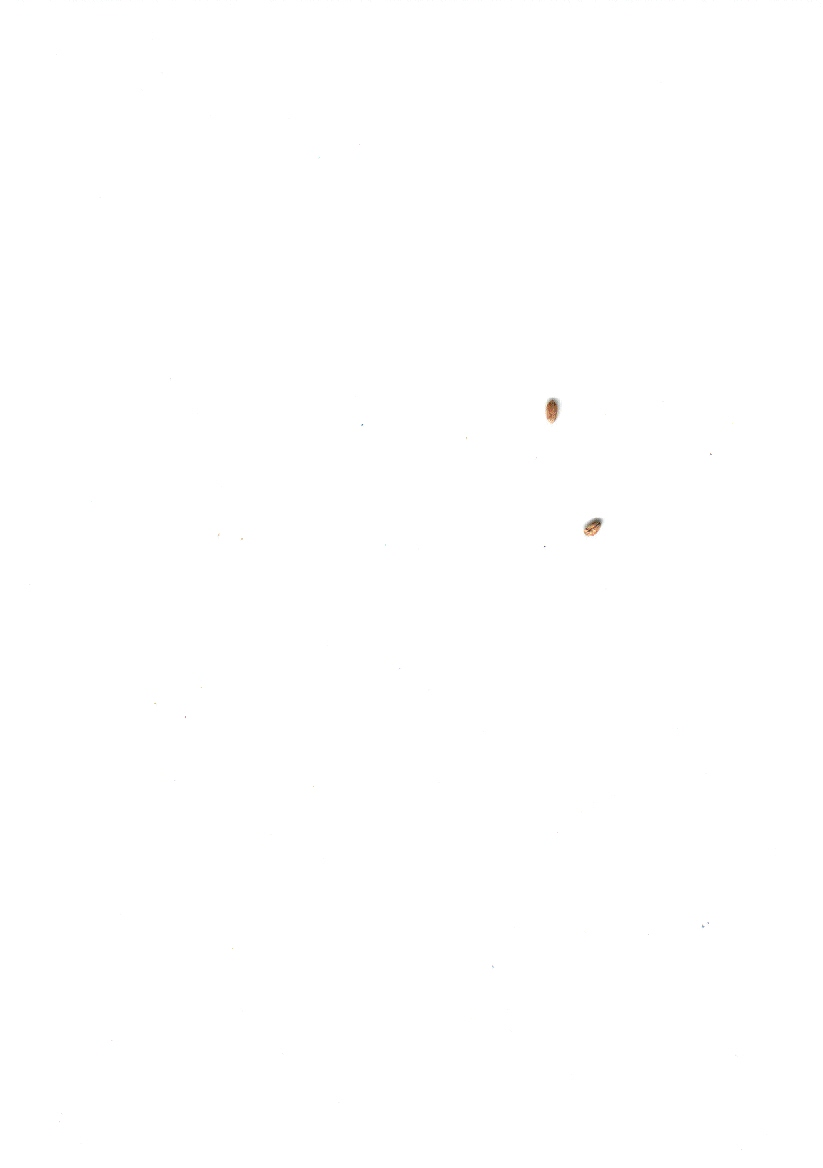grains: (536, 390, 572, 440), (568, 511, 618, 546)
